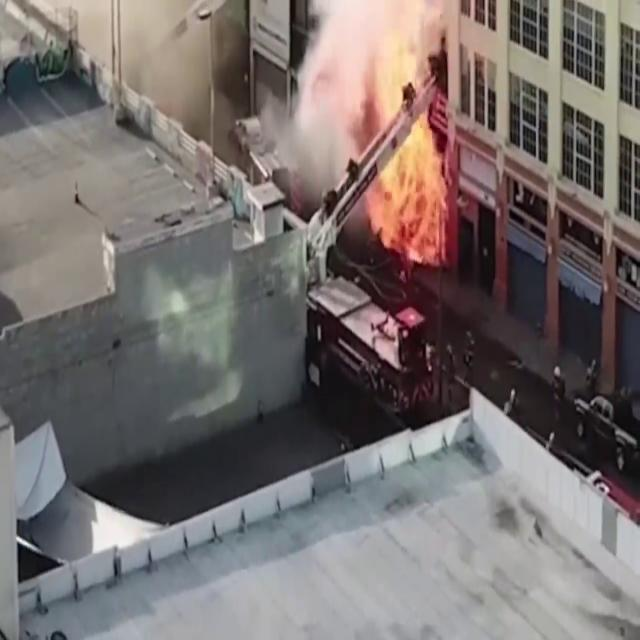Fire: (124, 0, 228, 139)
Smoke: (256, 1, 456, 276)
